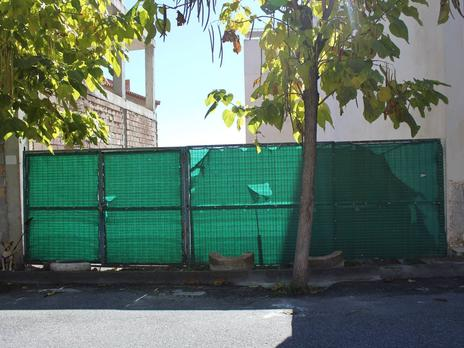Arbol: (259, 1, 366, 294), (1, 1, 117, 146)
Valla: (22, 136, 443, 264)
